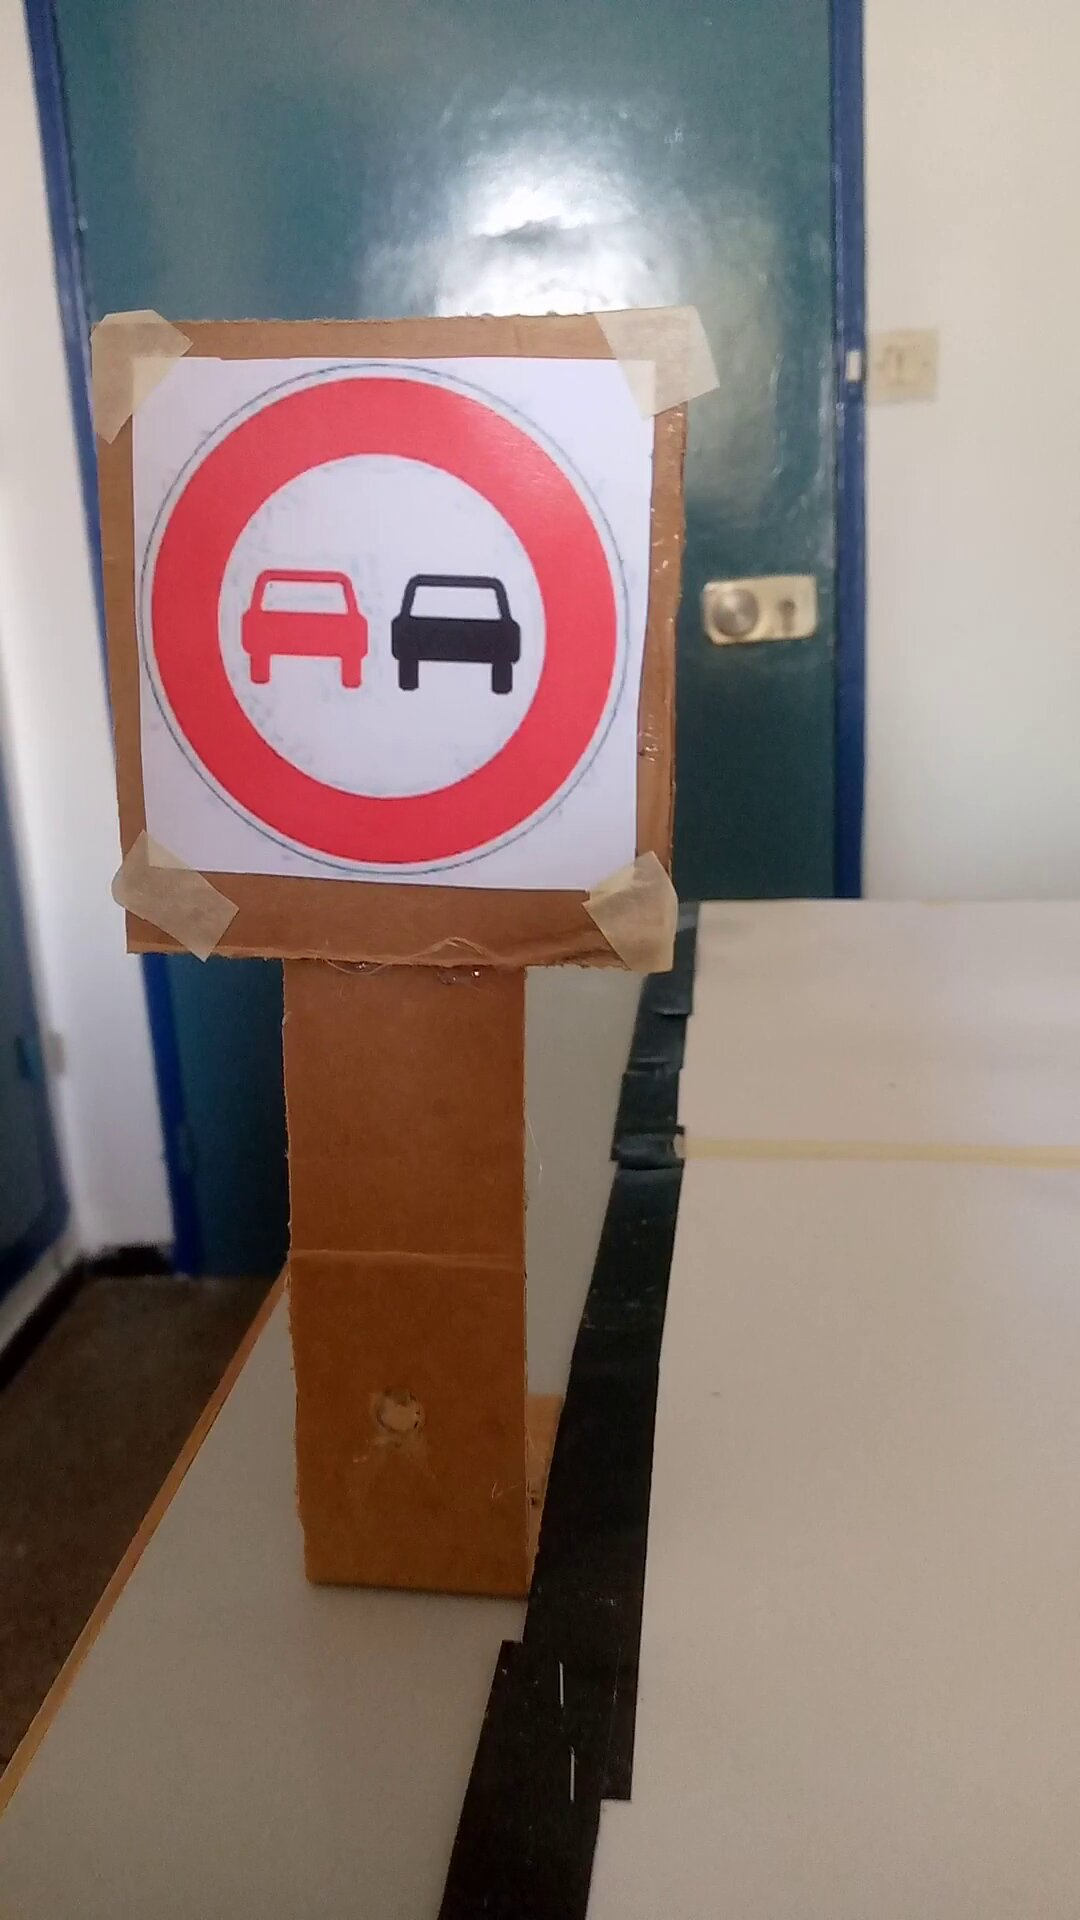panel100: (127, 349, 658, 906)
